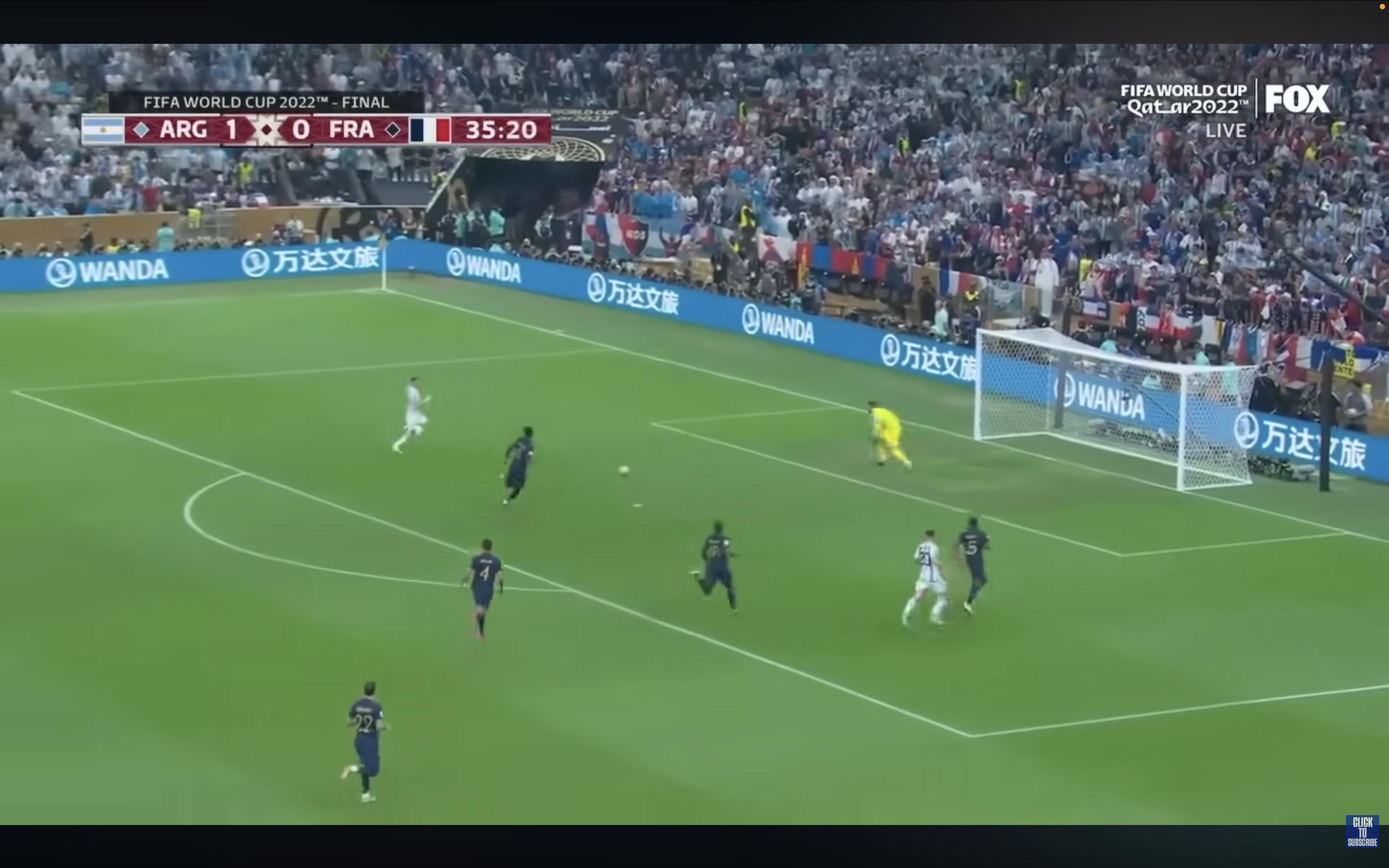ball: (618, 466, 630, 477)
goalkeeper: (868, 401, 911, 470)
player: (341, 682, 386, 804), (902, 530, 947, 626), (694, 521, 736, 615), (465, 539, 504, 640), (957, 517, 989, 615), (392, 377, 430, 452), (503, 426, 534, 504)
